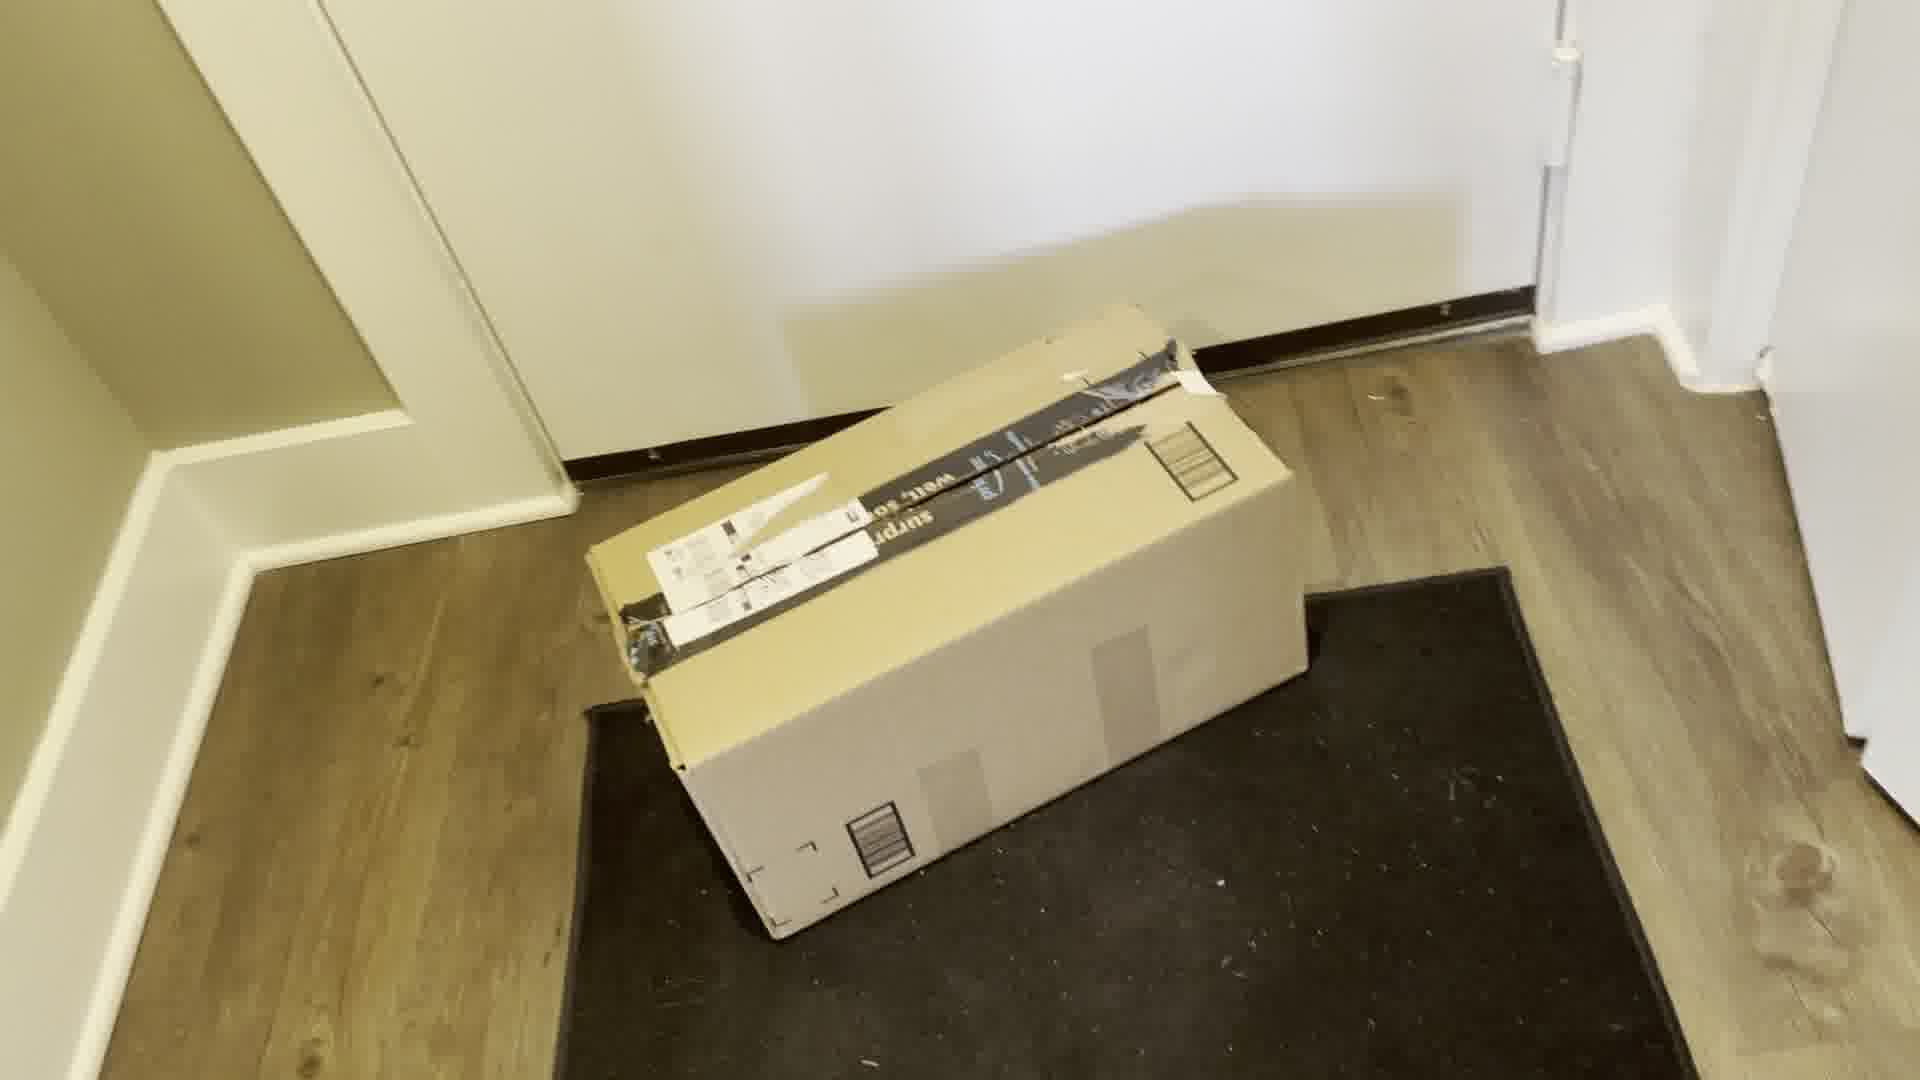box: (559, 289, 1352, 947)
